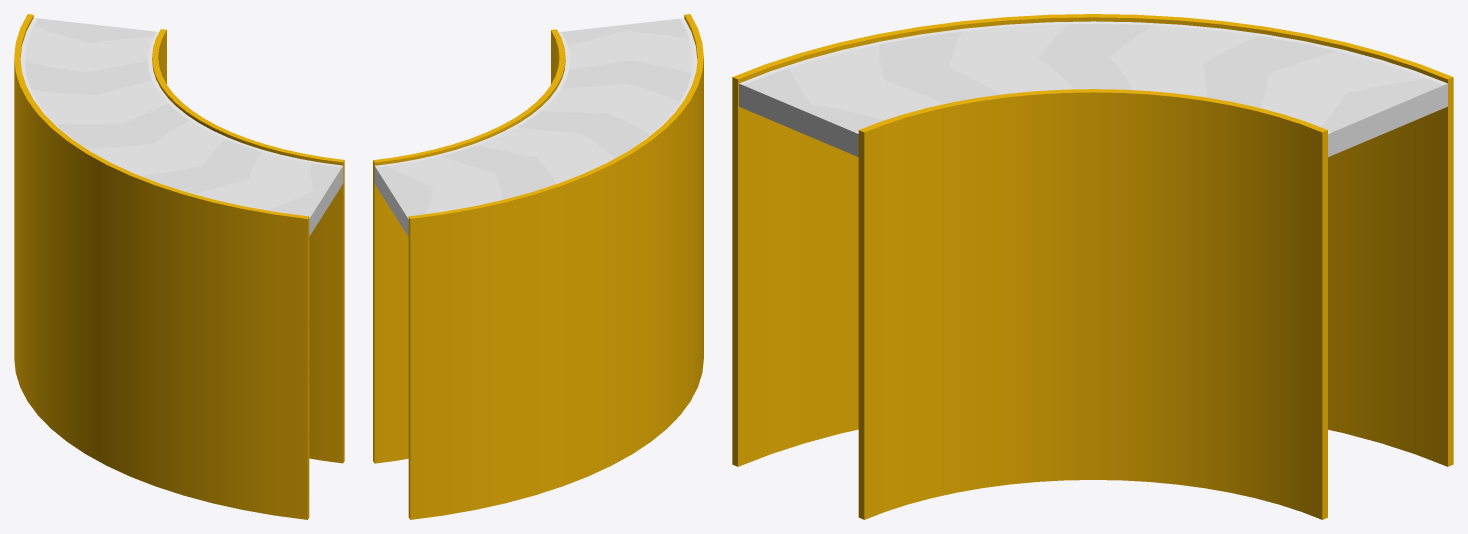
The model's file is Abstract_Path_2.fbx.
3 views of the same model, side by side, from view 1: azimuth 30°, elevation 25°; view 2: azimuth 150°, elevation 25°; view 3: azimuth 270°, elevation 25° (orthographic). The views are drawn at different scales.
Visible parts, largest first — view 1: polySurface6, polySurface5; view 2: polySurface6, polySurface5; view 3: polySurface6, polySurface5.
Boxes of the visible parts, x1=… form: polySurface6: x1=14, y1=14, x2=344, y2=519; polySurface5: x1=20, y1=18, x2=343, y2=236; polySurface6: x1=373, y1=14, x2=703, y2=519; polySurface5: x1=374, y1=18, x2=697, y2=236; polySurface6: x1=732, y1=14, x2=1453, y2=519; polySurface5: x1=739, y1=21, x2=1447, y2=156.
Bounding box in the file's own units: 303 × 462 × 779.
2 materials, 2 textured.
